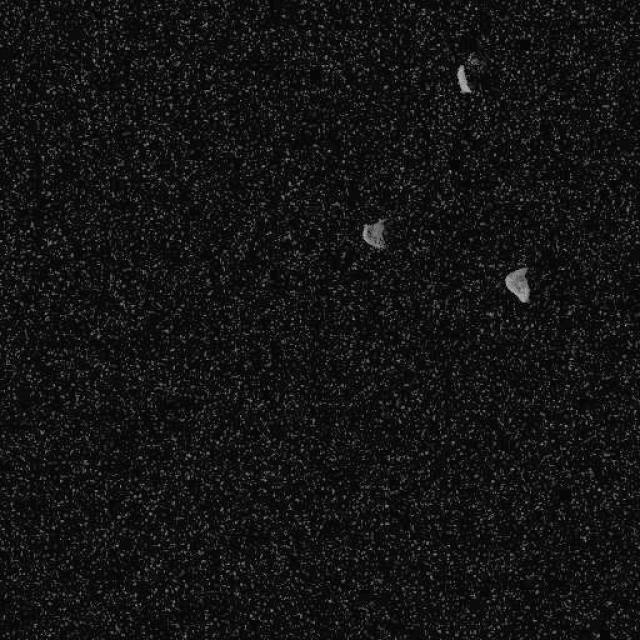D2: (504, 265, 531, 304), (360, 216, 388, 250), (455, 62, 473, 94)
